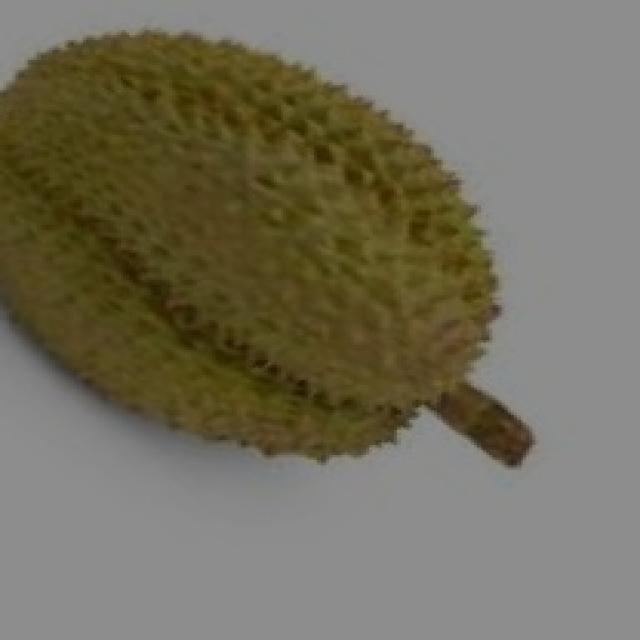fruit: (0, 5, 382, 505)
